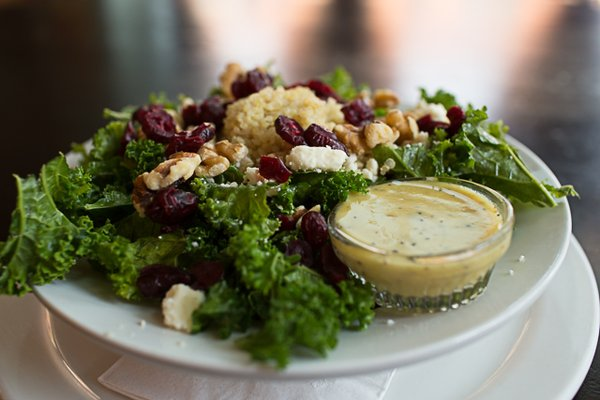curry: (70, 87, 576, 374)
sushi: (3, 58, 592, 389)
